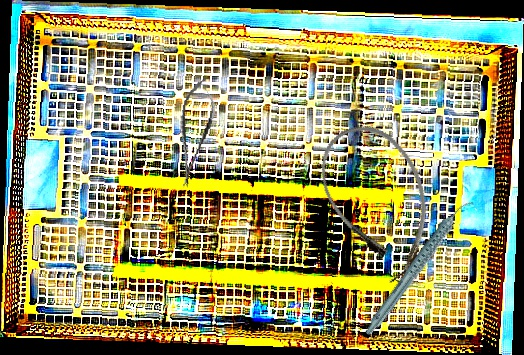Cannula: (303, 108, 457, 294)
Handpiece: (341, 197, 497, 338)
Micro Scissor: (167, 74, 221, 191)
